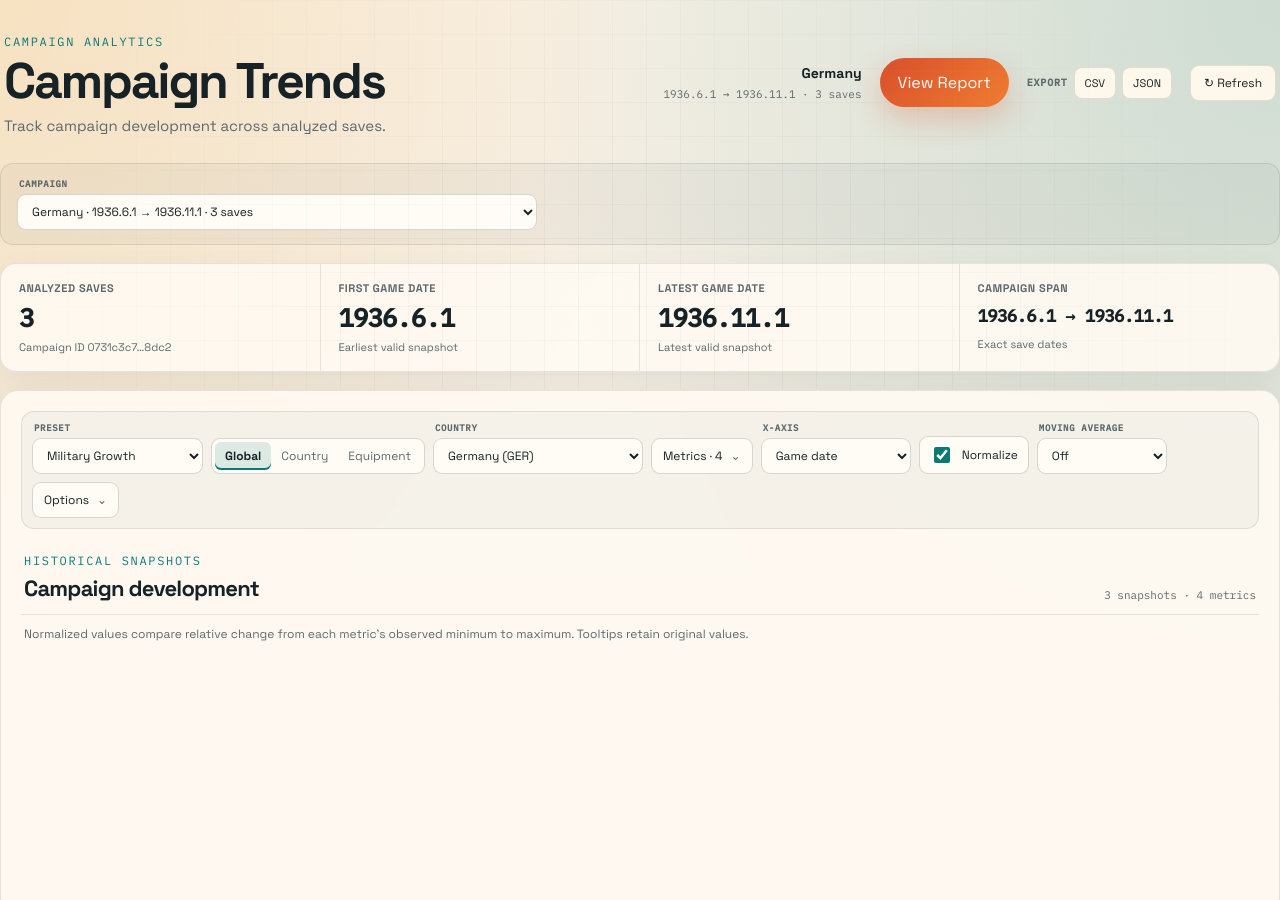
Scenario: Campaign Trends › keeps known campaigns separated and exposes a selector only when needed
Select "Germany · 1948.4.1 → 1948.4.1 · 1 save" in the dropdown labelled "Campaign". click: point(277, 212)
box: [17,194,537,230]
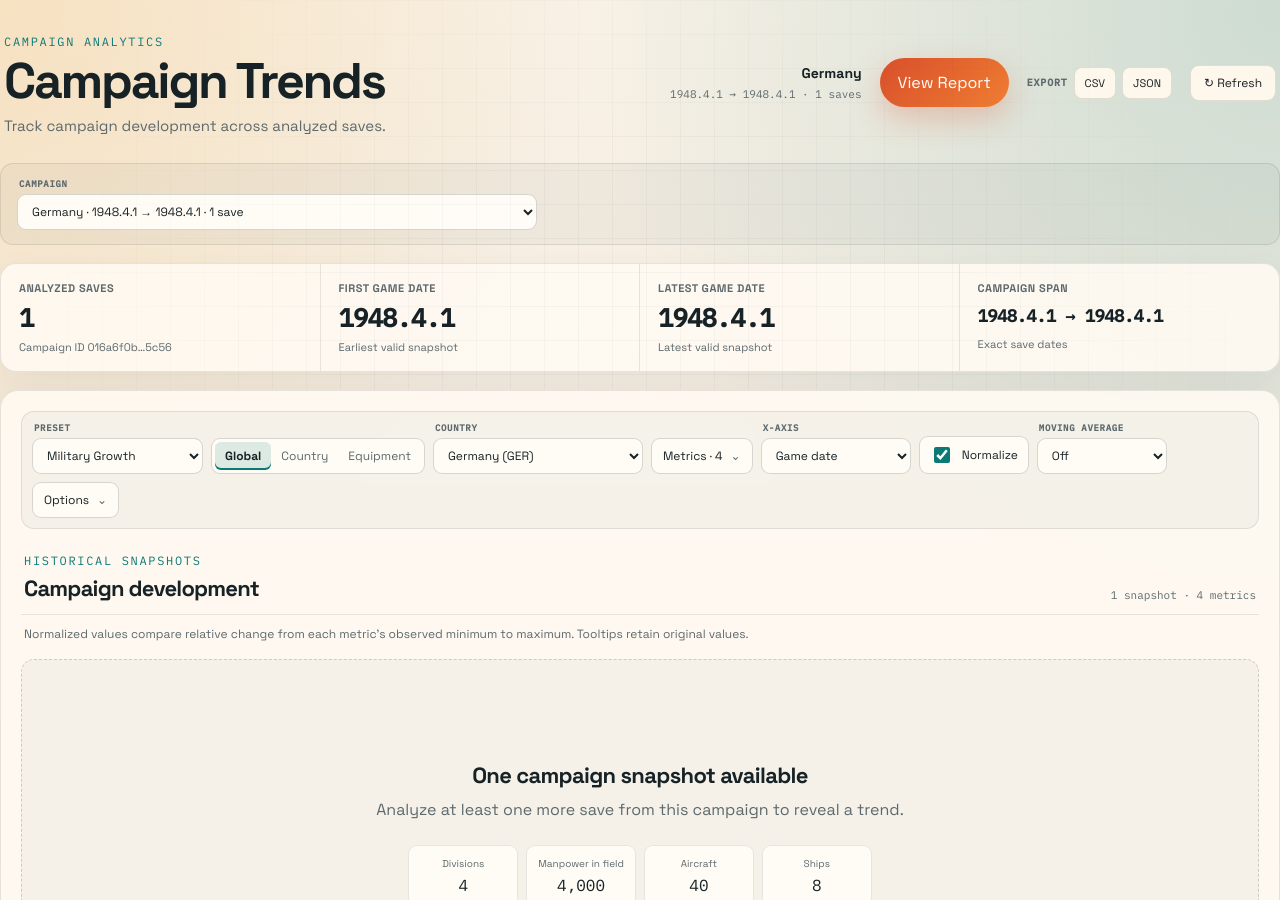
Expected: the text "1948.4.1 → 1948.4.1" is shown, [670,87,796,101]
Expected: the text "One campaign snapshot available" is shown, [472,761,808,789]
